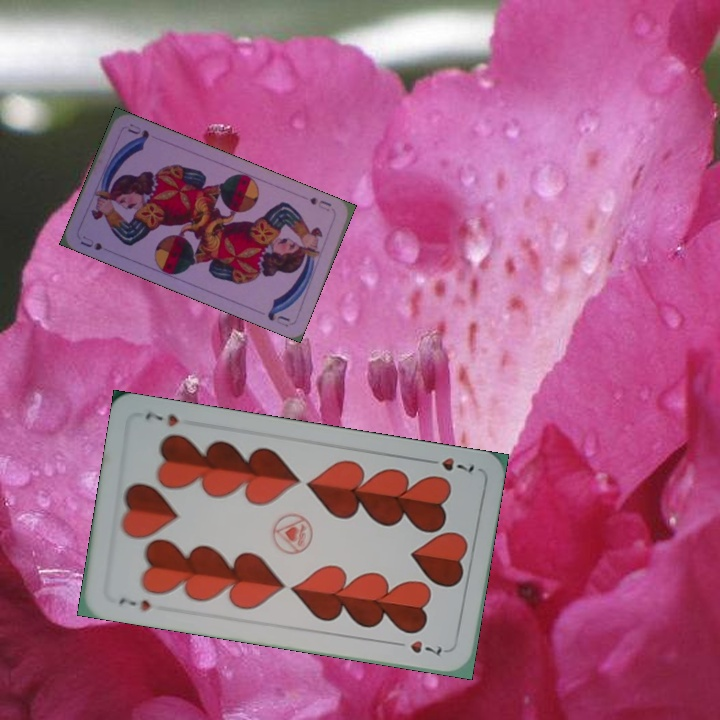H7: (421, 453, 477, 476), (115, 594, 153, 614)
SU: (76, 231, 105, 253), (306, 193, 334, 214)
